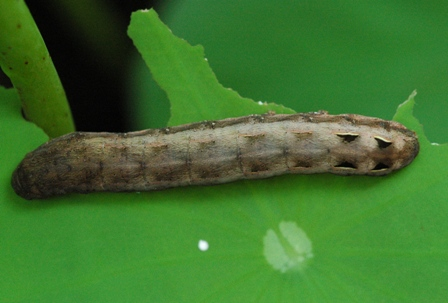Armyworm: (15, 100, 419, 205)
